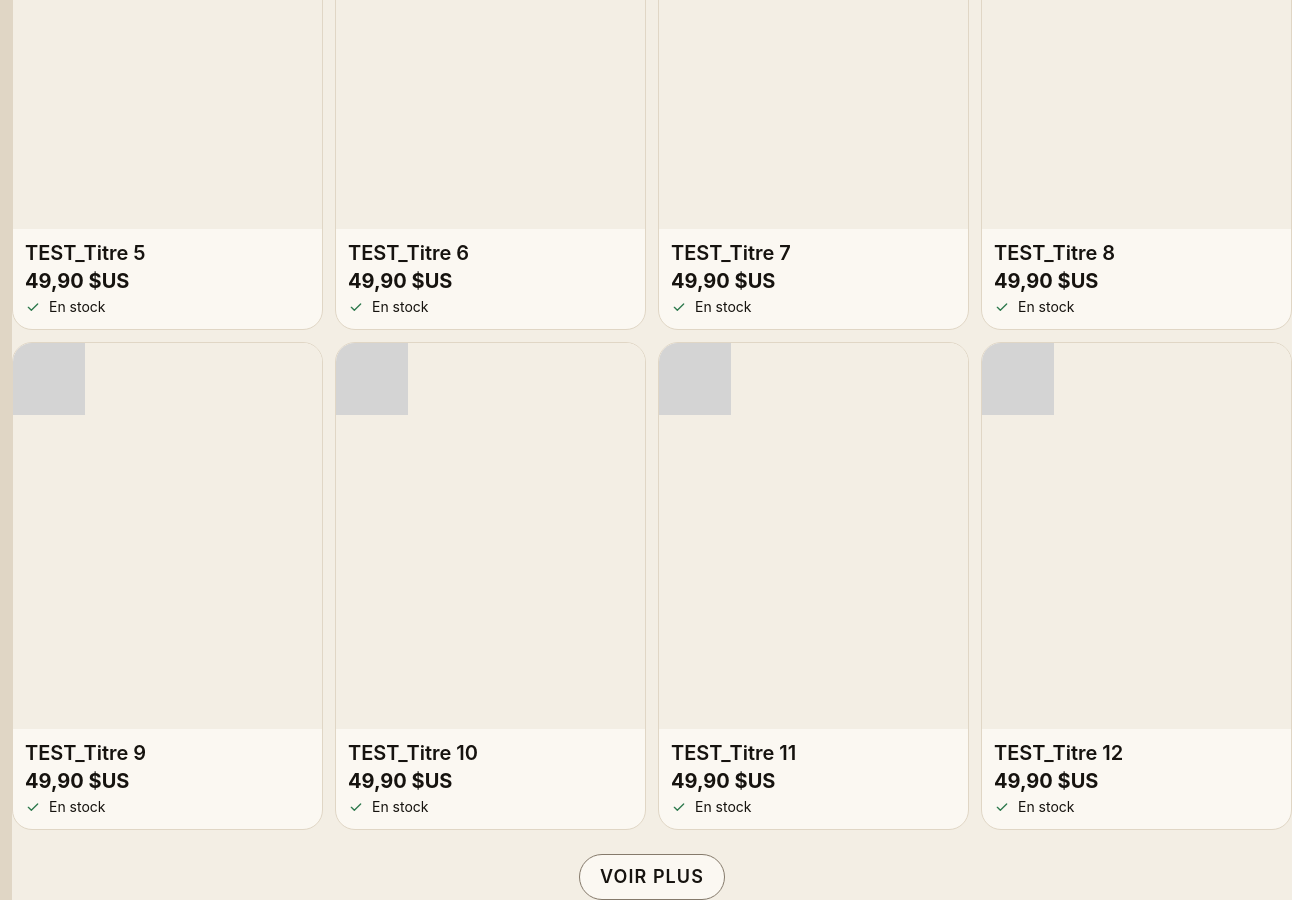
Test: GrilleProduits et « Voir plus » › plus de suite après le dernier lot : le lien disparaît
The image size is (1292, 900).
(page scrolled)
Step 1. Click the link "Voir plus" → coordinates (652, 877), box [579,854,725,899]
(page scrolled)
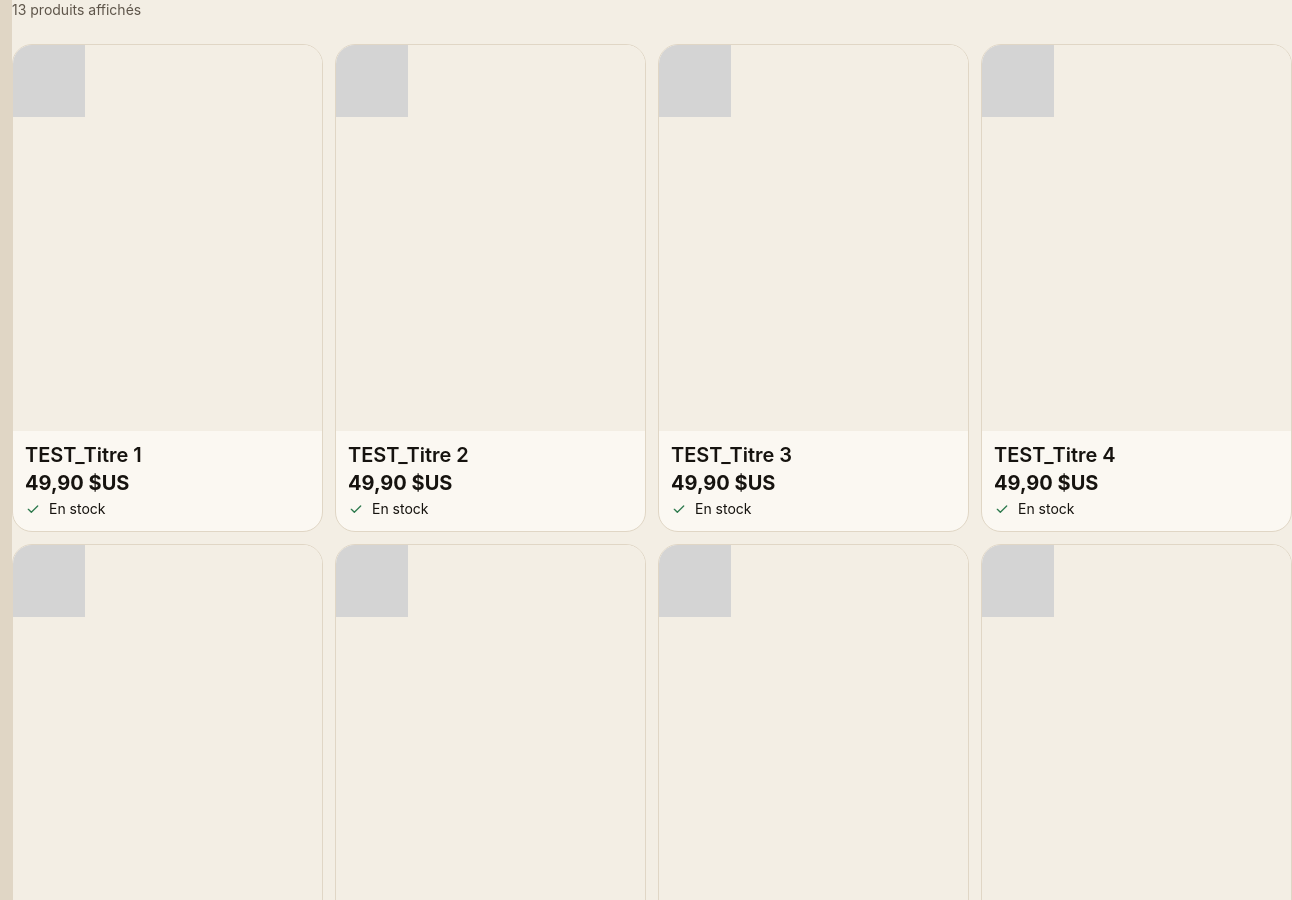
Result: the link "Voir plus" is gone
Result: the message reads "13 produits affichés" at [12,1,141,18]
